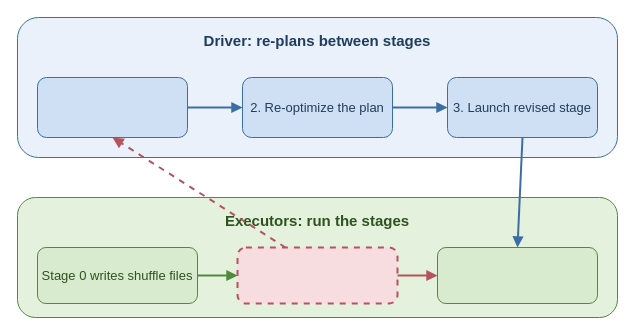
This 635x335 diagram has some shape labels left out. The shapes that lost their labels are listed below. From the top down, each one's centre as x and y in pixels, then its label:
[112,107]: 1. Read exact sizes
[317,275]: shuffle stage boundary
[517,275]: Stage 1 runs the revised plan
